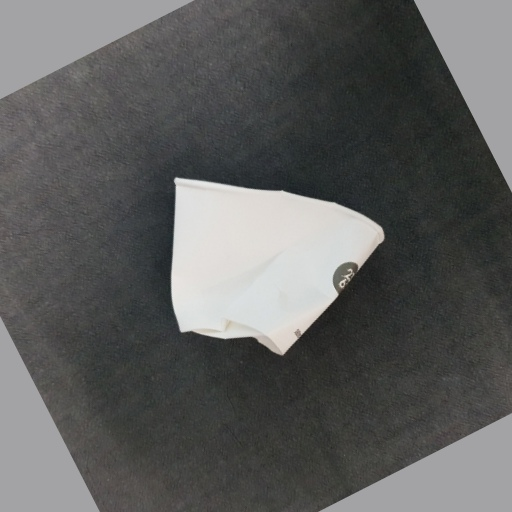Paper_1: (166, 176, 386, 351)
